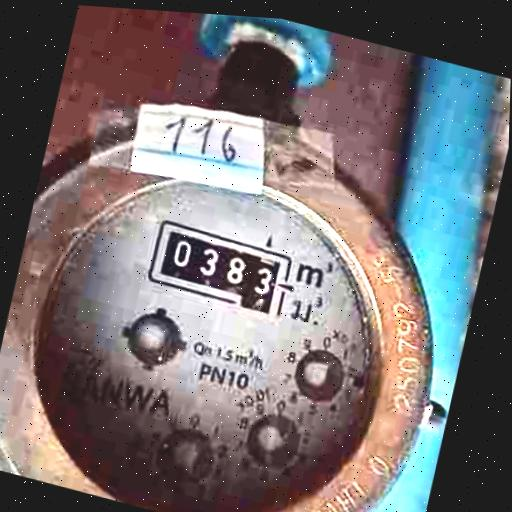0: (160, 231, 202, 282)
3: (239, 255, 279, 314), (190, 238, 226, 289)
8: (216, 245, 253, 296)
border_water_meter_number: (145, 217, 295, 316)
